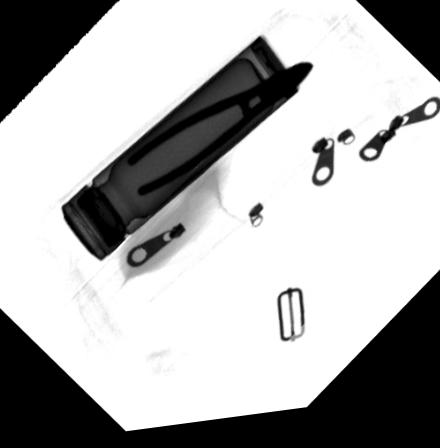Pliers: (125, 68, 314, 202)
